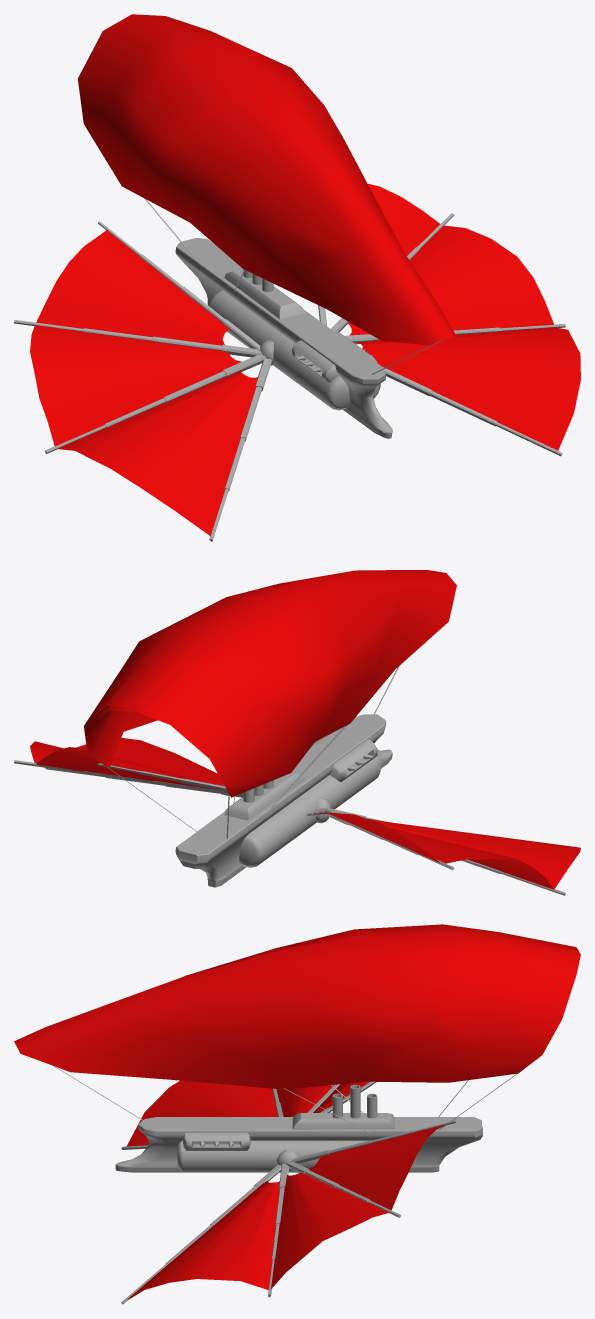
The model's file is ship_navy_basic.fbx.
The picture shows the model from 3 angles, top to bottom: view 1: azimuth 30°, elevation 25°; view 2: azimuth 150°, elevation 25°; view 3: azimuth 270°, elevation 25°; orthographic projection. The views are drawn at different scales.
Visible parts, largest first — view 1: polySurface10; view 2: polySurface10; view 3: polySurface10.
Boxes of the visible parts, x1,y1,x2,y2 form: polySurface10: (14, 14, 580, 541); polySurface10: (14, 570, 580, 895); polySurface10: (14, 924, 580, 1304).
Size of the model in its own units: 2076 by 1229 by 2165.
